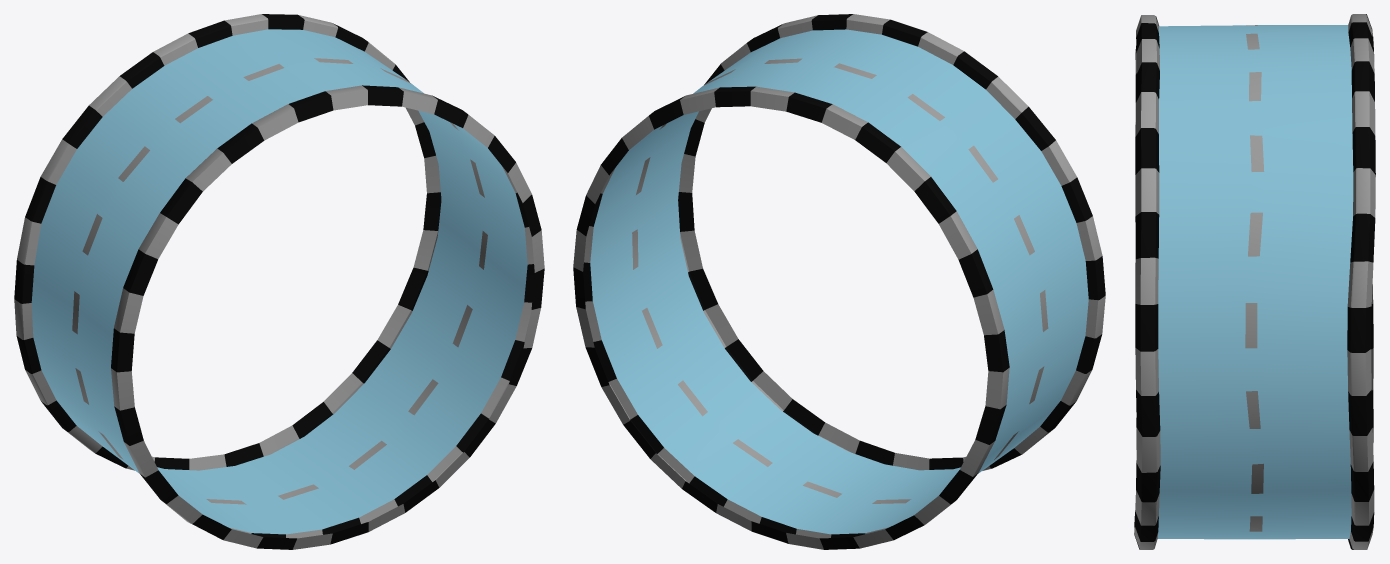
Rendered from Ring Road.fbx.
3 views of the same model, side by side, from view 1: azimuth 30°, elevation 25°; view 2: azimuth 150°, elevation 25°; view 3: azimuth 270°, elevation 25° (orthographic). The views are drawn at different scales.
Parts seen in each view (by area): view 1: Ring_Road; view 2: Ring_Road; view 3: Ring_Road.
Part boxes in pixels (x1,y1,x2,y2): Ring_Road: (14, 14, 544, 549); Ring_Road: (573, 14, 1105, 549); Ring_Road: (1134, 14, 1375, 549).
Size of the model in its own units: 352 by 352 by 158.
